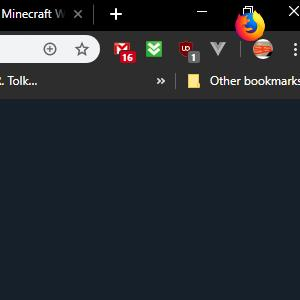firefox: (235, 10, 266, 42)
